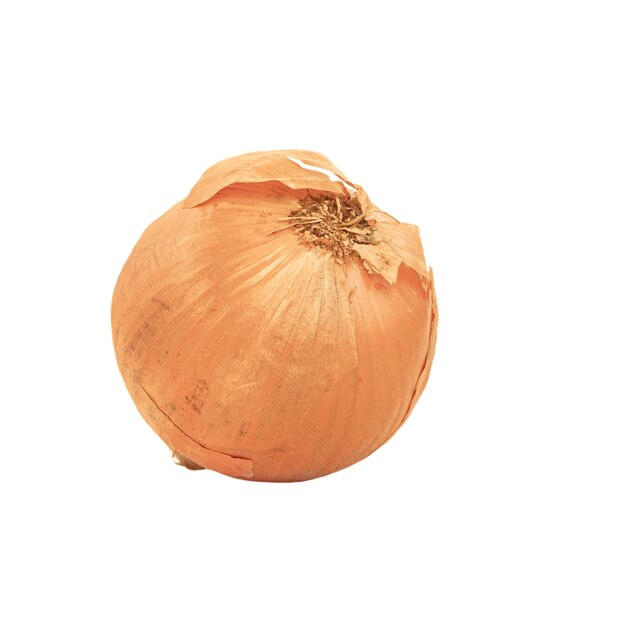onion: (87, 113, 461, 505)
